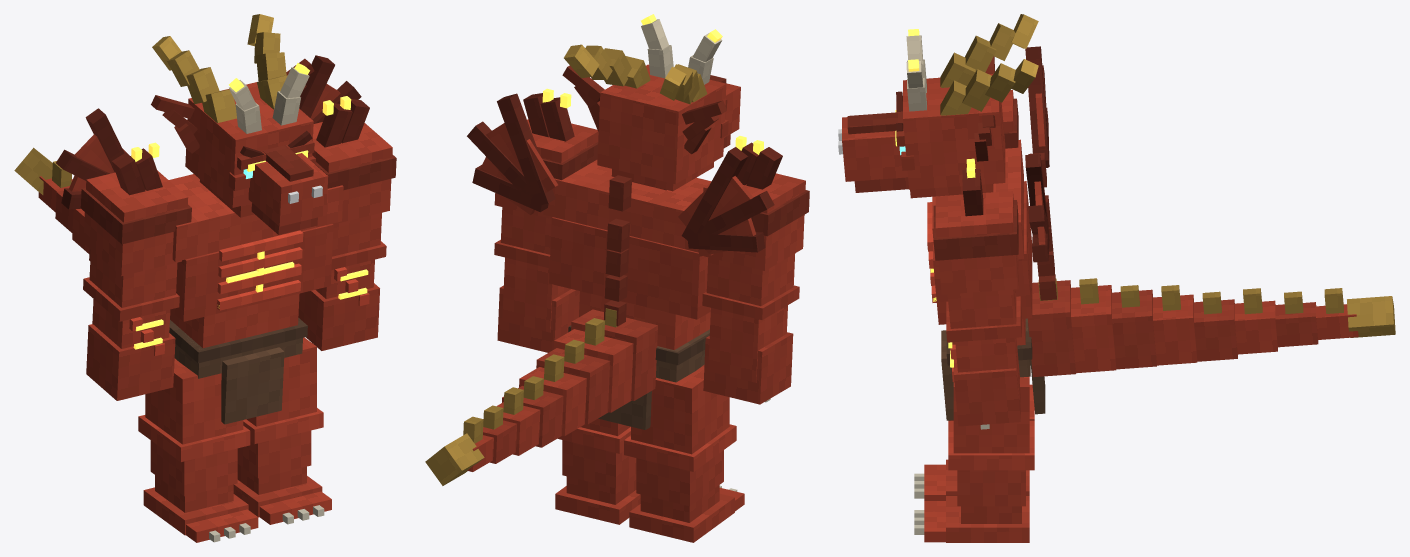
File: dragonoid_base_evo2.glb
3 views of the same model, side by side, from view 1: azimuth 30°, elevation 25°; view 2: azimuth 150°, elevation 25°; view 3: azimuth 270°, elevation 25° (orthographic).
Visible parts, largest first — view 1: Torso, Head, ArmR, ArmL, LegR, LegL, Root; view 2: Torso, Head, ArmR, LegR, ArmL, LegL; view 3: Torso, Head, ArmL, LegL, LegR, ArmR.
Boxes of the visible parts, box(x1,y1,x2,y2) form: Torso: box(14, 55, 361, 424); Head: box(151, 14, 328, 234); ArmR: box(80, 142, 191, 400); ArmL: box(298, 96, 396, 350); LegR: box(138, 358, 258, 542); LegL: box(233, 337, 331, 524); Root: box(209, 505, 324, 542); Torso: box(425, 93, 774, 485); Head: box(562, 14, 740, 191); ArmR: box(702, 136, 809, 404); LegR: box(624, 365, 744, 542); ArmL: box(494, 88, 598, 352); LegL: box(555, 418, 640, 524); Torso: box(927, 46, 1395, 420); Head: box(838, 14, 1038, 198); ArmL: box(933, 158, 1021, 429); LegL: box(924, 376, 1034, 542); LegR: box(924, 384, 1034, 500); ArmR: box(1001, 89, 1018, 148).
Bounding box in the file's own units: 1.38 × 2.05 × 2.2.
Materials: 33 (33 with a texture image).
